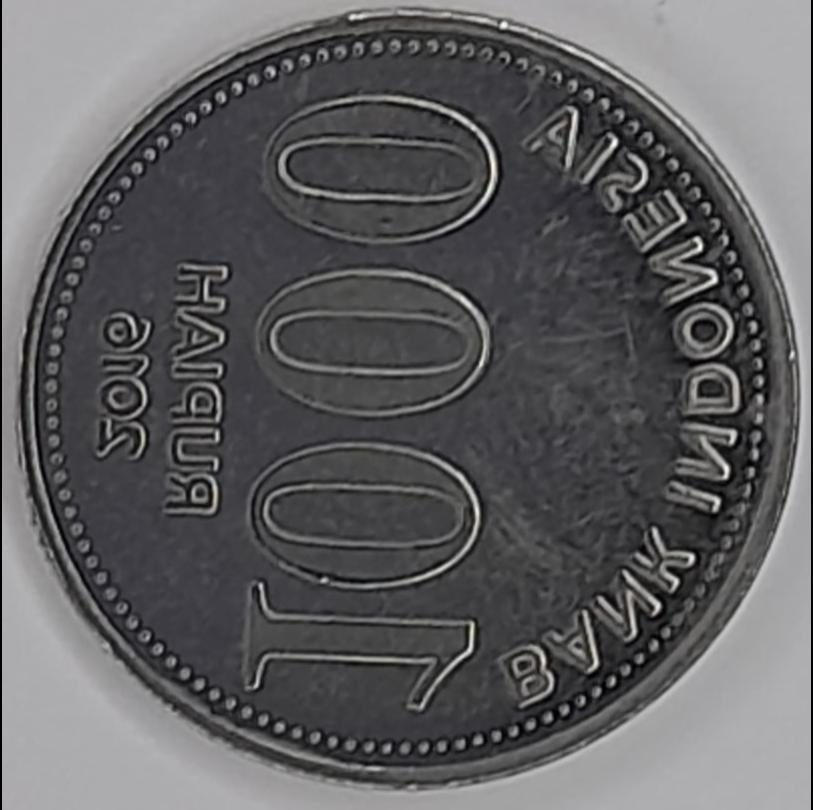coin_1000_e2016: (14, 16, 802, 810)
